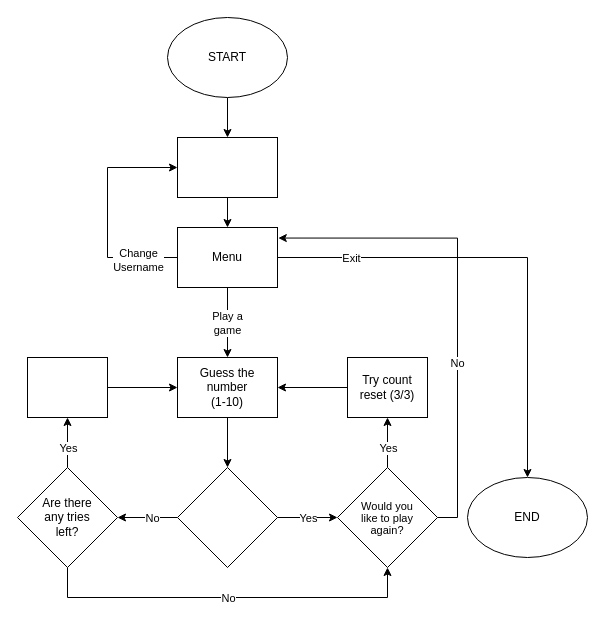
The diagram is 605 pixels wide and 623 high, and some of its shapes have lost their labels. Here are the shapes that lost their labels. From the top down, the centre of each, then its label:
At [227,167]: "Input your name".
At [67,387]: "-1 try".
At [227,517]: "Is it correct?".
